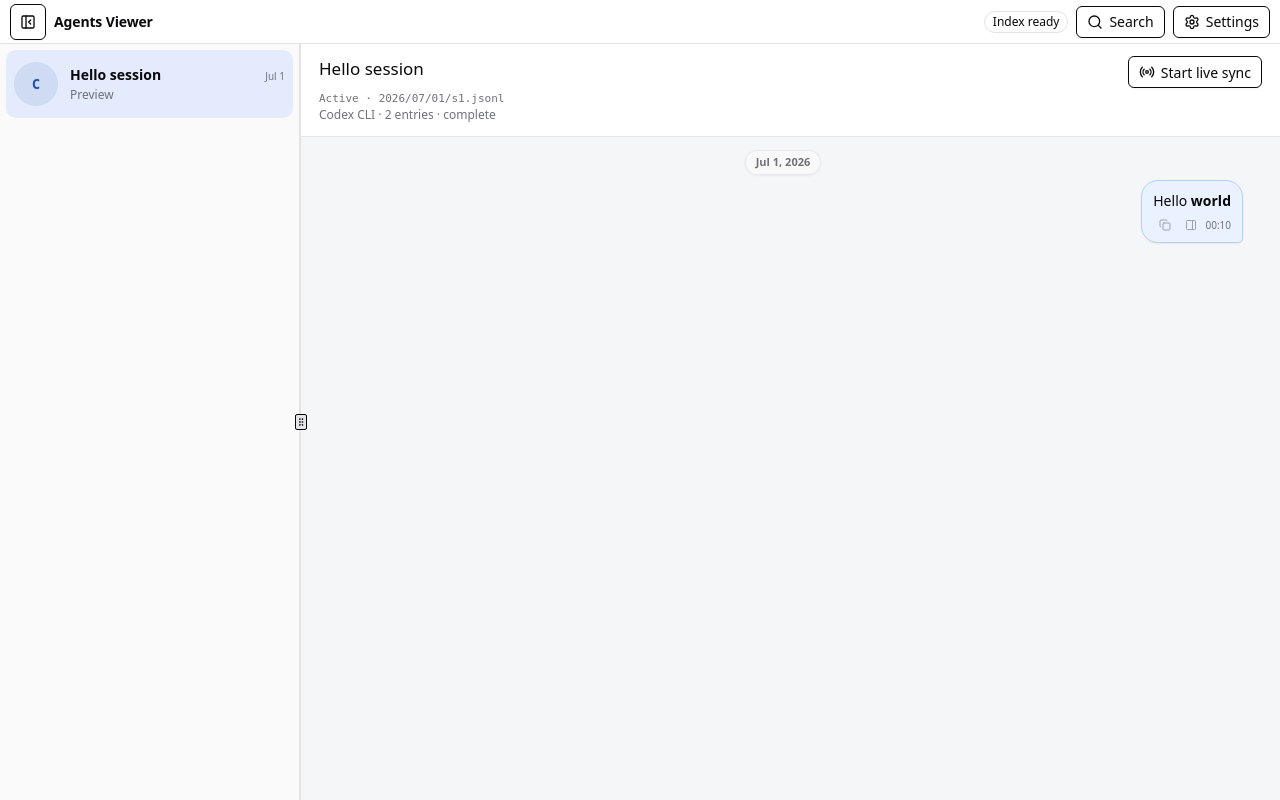
Agents Viewer UI › loads and merges raw record chunks only when requested
Check: the heading "Hello session" is shown, box top-left (319, 56), bottom-right (424, 82)
What coordinates should you click on to do the following:
click the button named "Open inspector"
I would click on:
 (1191, 225)
Its box is top-left (1179, 213), bottom-right (1203, 237).
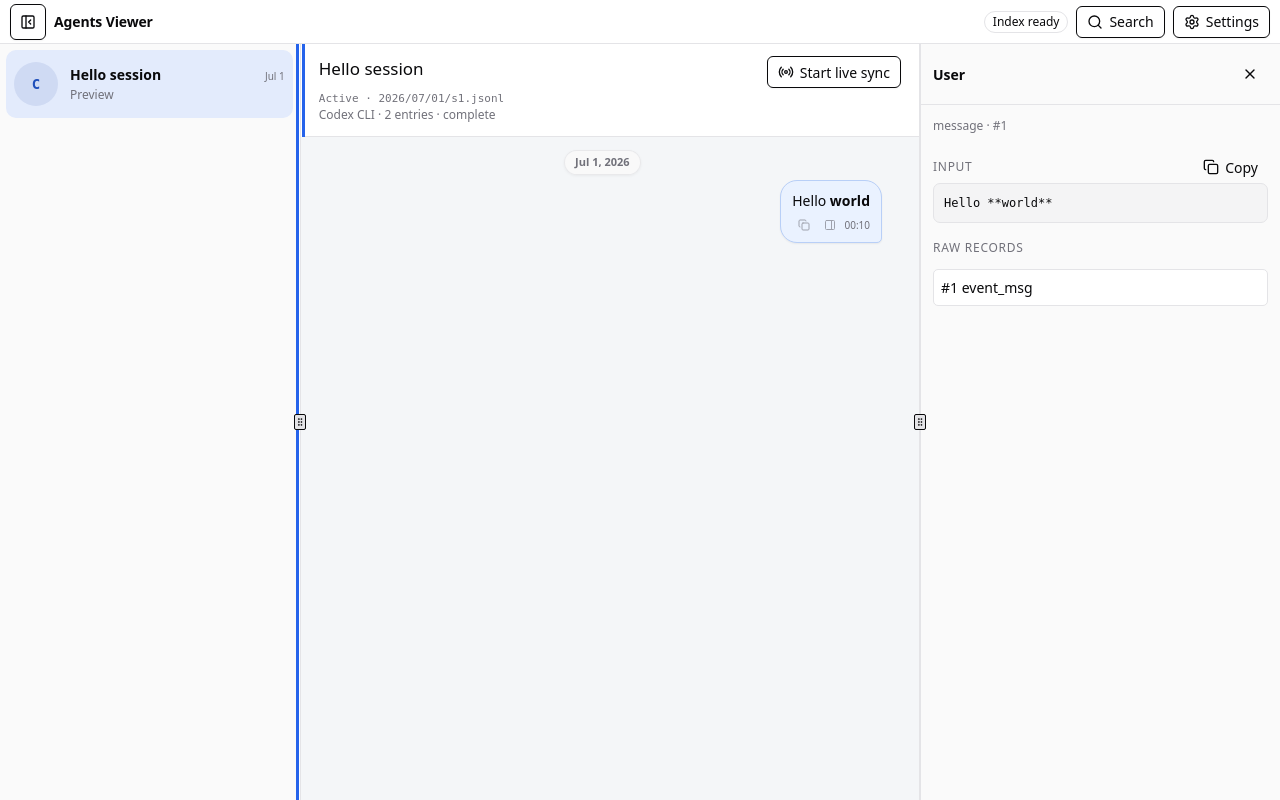
What coordinates should you click on to do the following:
click the button "#1 event_msg"
I would click on:
 (997, 288)
Its box is top-left (933, 269), bottom-right (1268, 306).
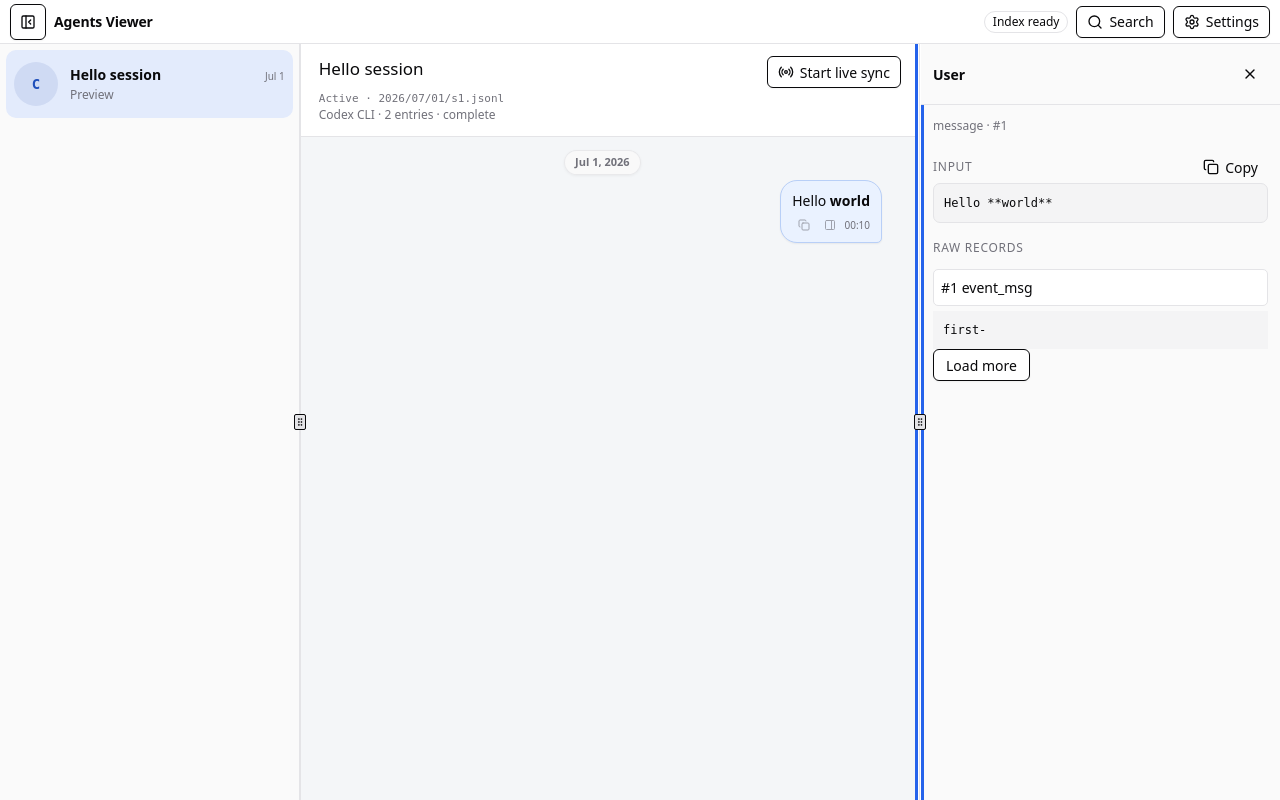
Check: the text "first-" is shown, box top-left (933, 311), bottom-right (1268, 349)
What coordinates should you click on to do the following:
click the button "Load more"
I would click on:
 (981, 365)
Its box is top-left (933, 349), bottom-right (1030, 381).
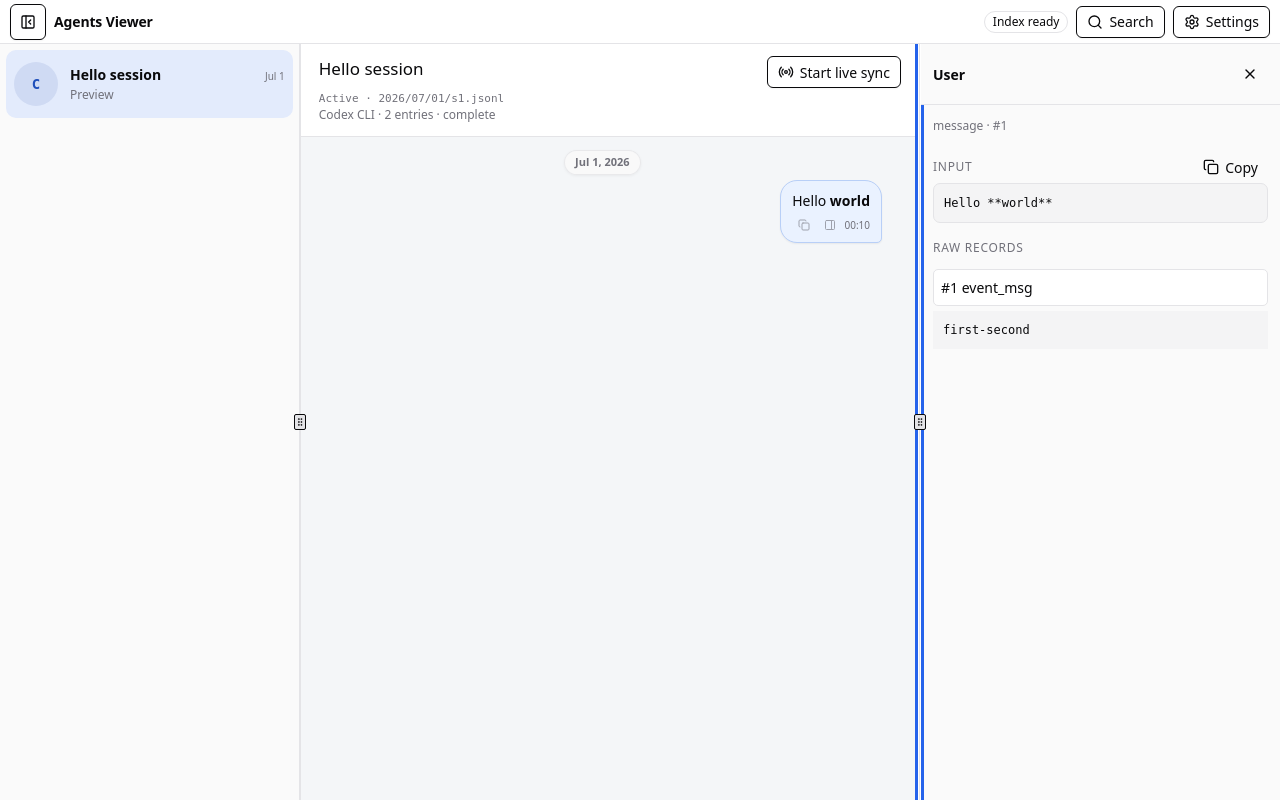
Check: the text "first-second" is shown, box top-left (933, 311), bottom-right (1268, 349)
